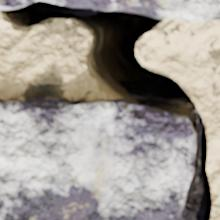brick: (0, 97, 194, 219), (45, 0, 219, 22), (0, 0, 34, 9)
crack: (1, 0, 217, 219)
